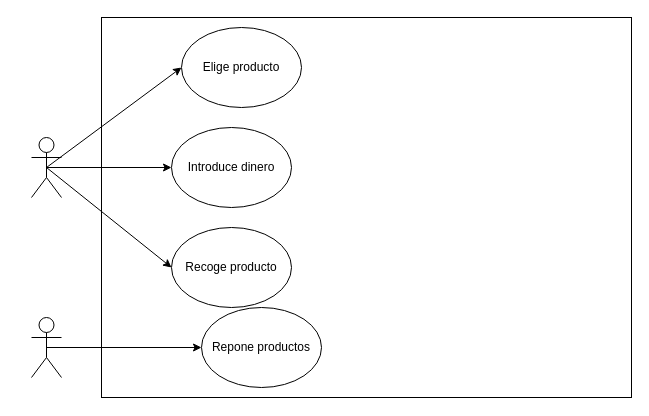
The diagram is 649 pixels wide and 416 high, and some of its shapes have lost their labels. Here are the shapes that lost their labels. From the top down, the centre of each, then its label:
At (x=46, y=167): "Cliente".
At (x=46, y=347): "Reponedor".
